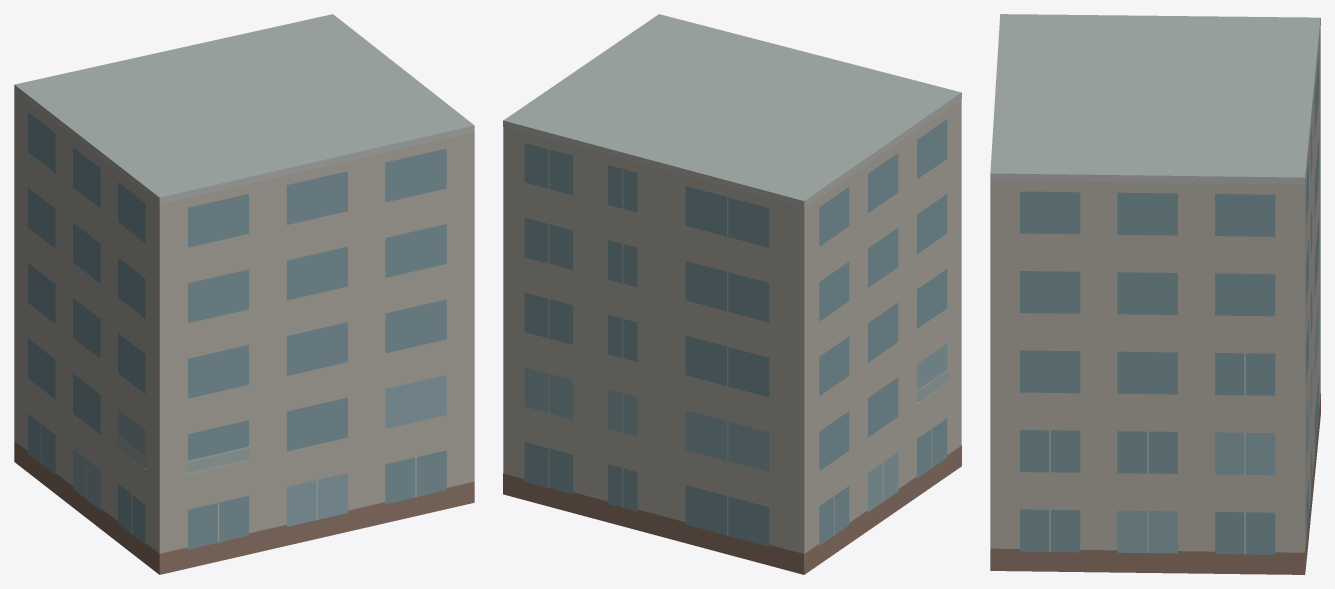
File: survey-upis-32774987.glb
3 views of the same model, side by side, from view 1: azimuth 30°, elevation 25°; view 2: azimuth 150°, elevation 25°; view 3: azimuth 270°, elevation 25° (orthographic). The views are drawn at different scales.
Parts seen in each view (by area): view 1: survey-upis-32774987.tmp; view 2: survey-upis-32774987.tmp; view 3: survey-upis-32774987.tmp.
Part boxes in pixels (x1,y1,x2,y2): survey-upis-32774987.tmp: [14, 14, 474, 574]; survey-upis-32774987.tmp: [503, 14, 961, 574]; survey-upis-32774987.tmp: [990, 14, 1320, 574].
Bounding box in the file's own units: 12.11 × 13.7 × 10.33.
